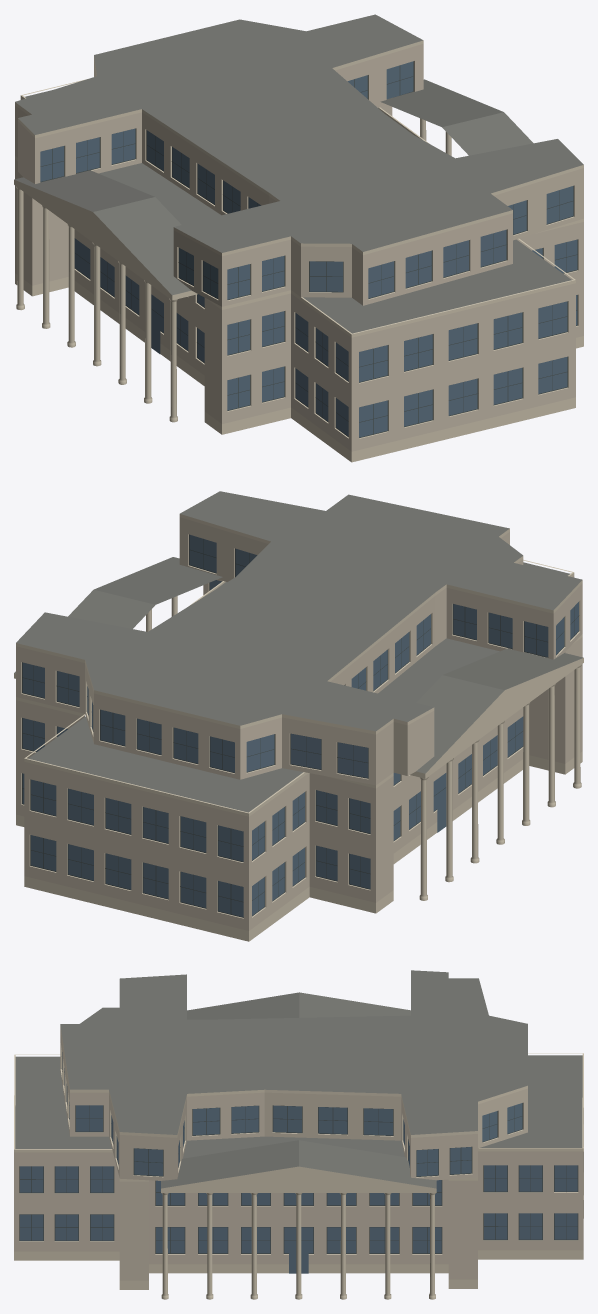
The model's file is dc-au-kerwin-hall.detail.glb.
3 views of the same model, one above another, from view 1: azimuth 30°, elevation 25°; view 2: azimuth 150°, elevation 25°; view 3: azimuth 270°, elevation 25° (orthographic). The views are drawn at different scales.
Visible parts, largest first — view 1: Kerwin Hall; view 2: Kerwin Hall; view 3: Kerwin Hall.
Boxes of the visible parts, box(x1,y1,x2,y2) form: Kerwin Hall: box(14, 14, 583, 462); Kerwin Hall: box(14, 491, 583, 941); Kerwin Hall: box(14, 970, 583, 1299).
Size of the model in its own units: 42.3 by 17.9 by 58.52.
